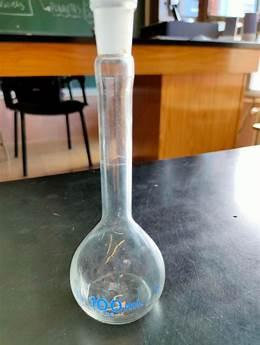Volumetric flask: (66, 0, 168, 325)
